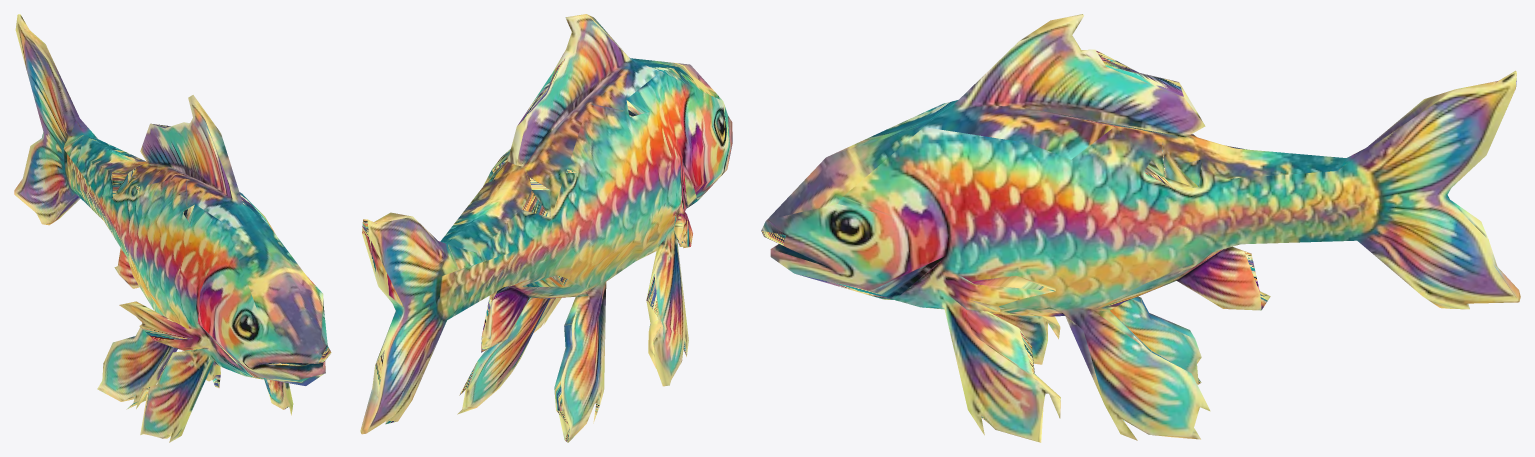
The model's file is rainbow-spirit.glb.
3 views of the same model, side by side, from view 1: azimuth 30°, elevation 25°; view 2: azimuth 150°, elevation 25°; view 3: azimuth 270°, elevation 25° (orthographic). The views are drawn at different scales.
Visible parts, largest first — view 1: rainbow-spirit; view 2: rainbow-spirit; view 3: rainbow-spirit.
Boxes of the visible parts, x1,y1,x2,y2 form: rainbow-spirit: (14, 14, 331, 442); rainbow-spirit: (360, 14, 732, 442); rainbow-spirit: (761, 14, 1520, 442).
Bounding box in the file's own units: 0.3196 × 0.5821 × 1.
Materials: 1 (1 with a texture image).
